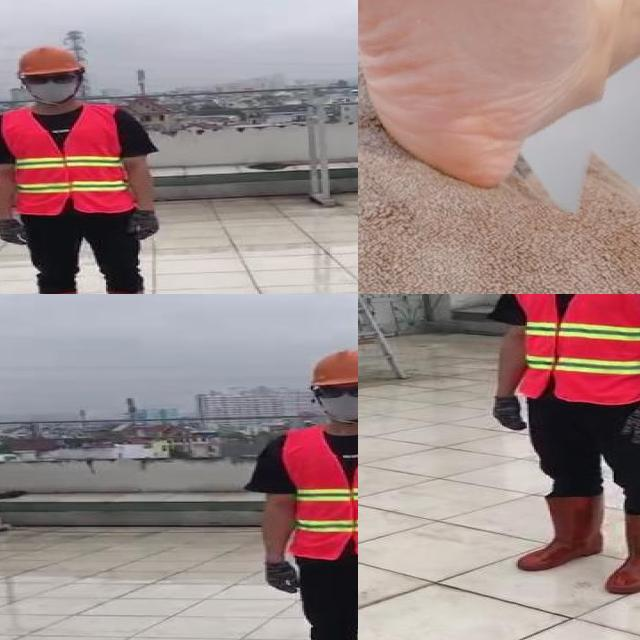Barefoots: (358, 0, 631, 189)
boots: (518, 493, 607, 572), (603, 504, 640, 598)
face_mask: (22, 71, 78, 103), (313, 382, 358, 420)
glasses: (21, 70, 79, 87), (310, 383, 358, 401)
hand_glove: (488, 395, 530, 433), (263, 562, 302, 598), (128, 208, 160, 240), (619, 407, 640, 448), (0, 221, 27, 247)
head_helmet: (14, 45, 84, 76), (305, 348, 358, 386)
person: (480, 294, 640, 599), (0, 44, 165, 294), (244, 342, 358, 640)
vest: (511, 294, 640, 406), (1, 105, 131, 216), (284, 423, 358, 560)
